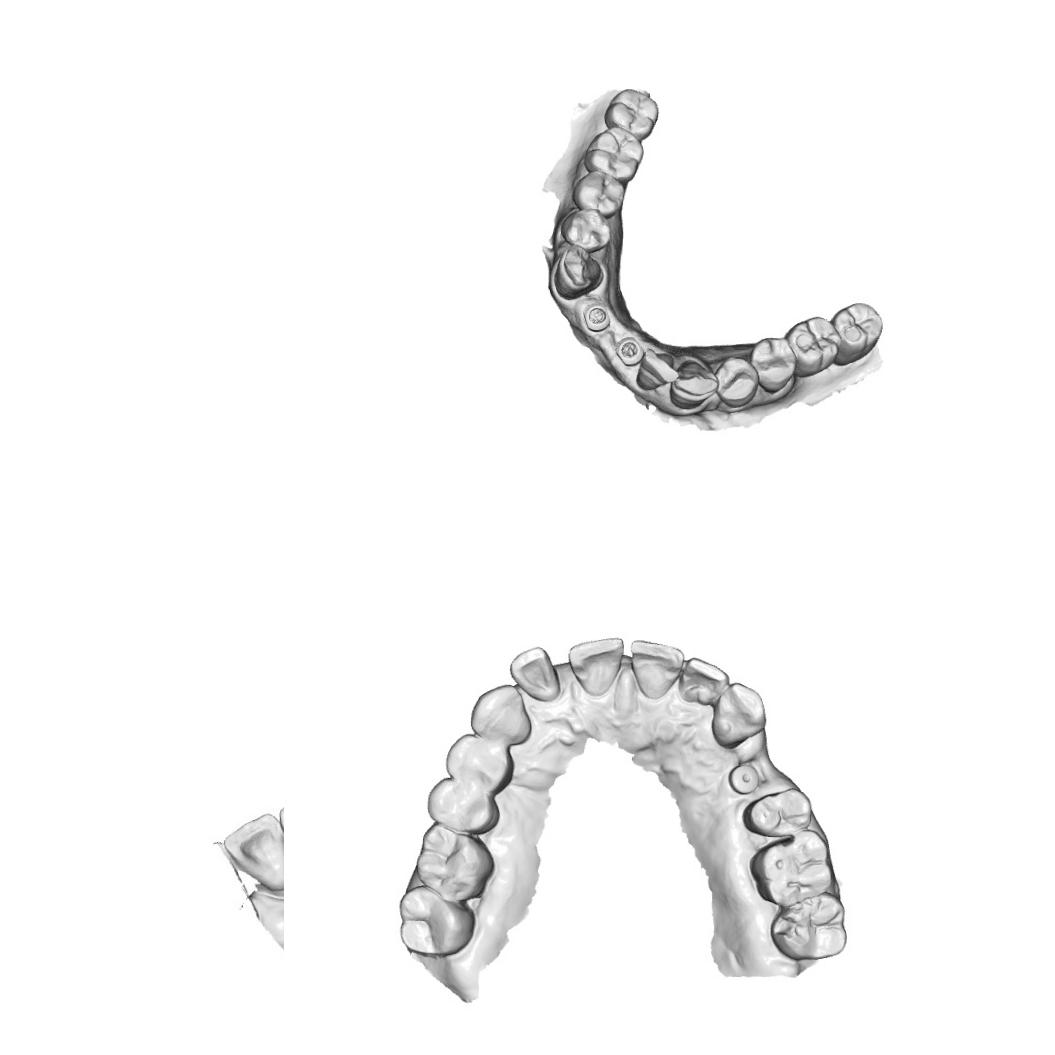canine: (468, 682, 534, 746), (710, 679, 768, 750), (668, 358, 720, 410)
implant: (727, 762, 760, 796), (614, 335, 646, 367), (582, 302, 612, 334)
incisor: (220, 809, 284, 891), (564, 634, 624, 698), (628, 638, 685, 700), (506, 643, 561, 703), (552, 243, 606, 302), (676, 656, 730, 707), (634, 346, 681, 392)
molar: (747, 826, 834, 909), (414, 822, 496, 903), (396, 883, 477, 959), (769, 889, 848, 962), (785, 313, 842, 380), (828, 300, 884, 368), (582, 125, 645, 184), (602, 86, 660, 142)
premolar: (444, 732, 515, 796), (426, 775, 501, 835), (741, 785, 813, 839), (747, 333, 799, 395), (570, 168, 626, 220), (712, 355, 762, 410), (558, 206, 612, 254)
